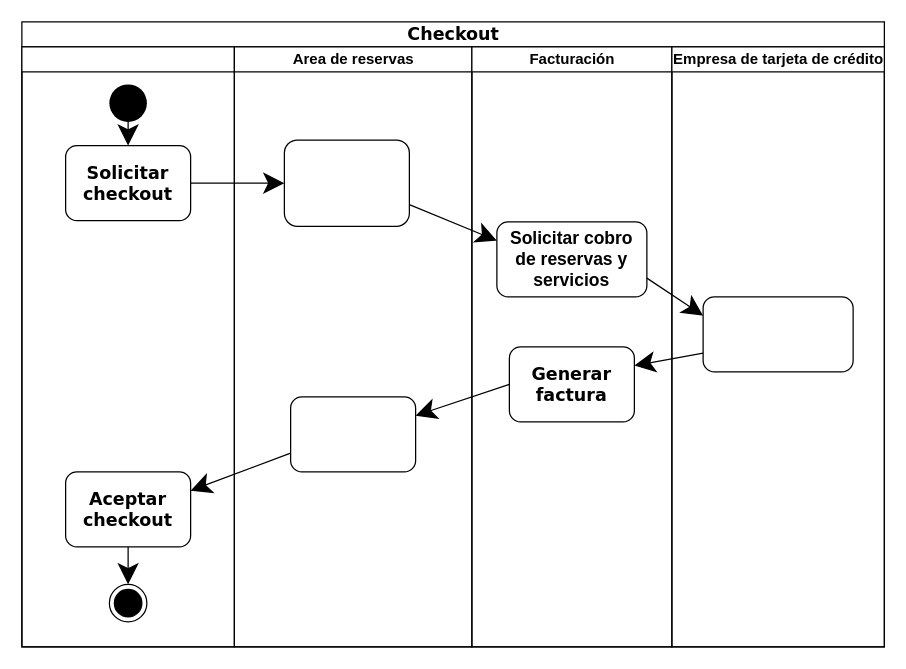
Some shapes in this 906 by 669 pixel diagram are drawn without their labels. Each missing label, with the box of its shape:
Cliente: (21, 46, 234, 647)
Cobrar reserva y servicios: (702, 296, 853, 372)
Confirmar checkout: (289, 396, 416, 472)
Verificar consumo de servicios adicionales: (283, 139, 409, 226)
